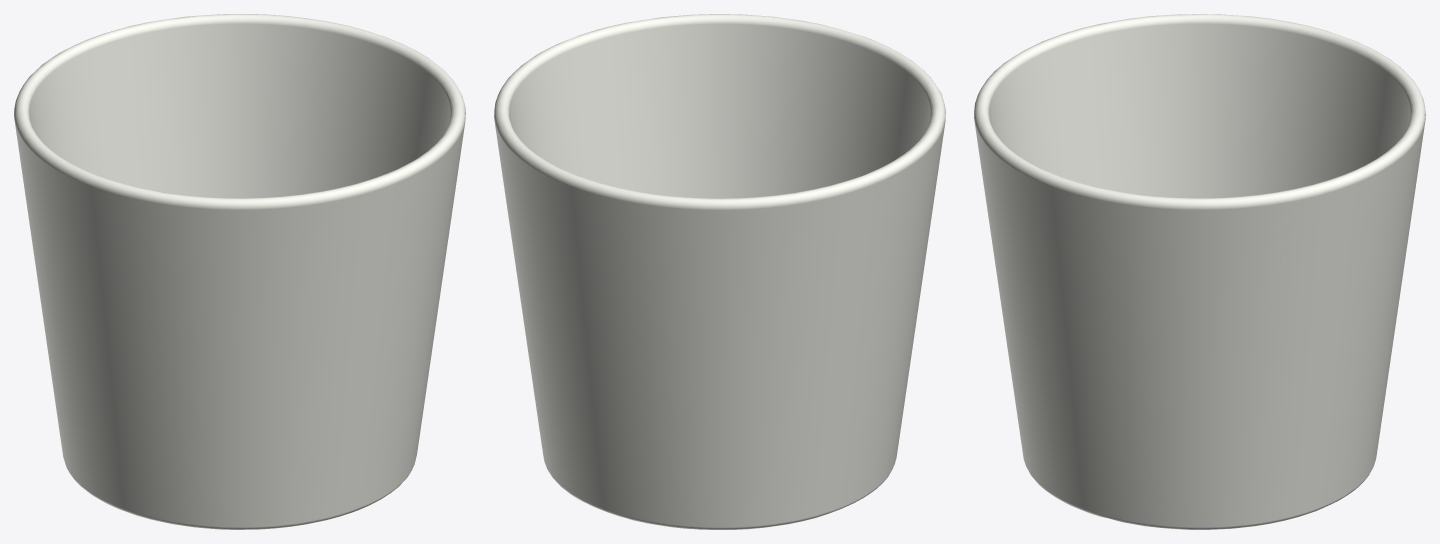
Rendered from sojabona_osonka_doniczki_00533588.glb.
3 views of the same model, side by side, from view 1: azimuth 30°, elevation 25°; view 2: azimuth 150°, elevation 25°; view 3: azimuth 270°, elevation 25° (orthographic).
Visible parts, largest first — view 1: sojabona_osonka_doniczki_00533588; view 2: sojabona_osonka_doniczki_00533588; view 3: sojabona_osonka_doniczki_00533588.
Part boxes in pixels (box(x1,y1,x2,y2)): sojabona_osonka_doniczki_00533588: box(14, 14, 465, 529); sojabona_osonka_doniczki_00533588: box(494, 14, 945, 529); sojabona_osonka_doniczki_00533588: box(974, 14, 1425, 529).
Size of the model in its own units: 0.1467 by 0.1255 by 0.1466.
1 material, 1 textured.
